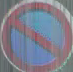No waiting: (3, 1, 67, 68)
